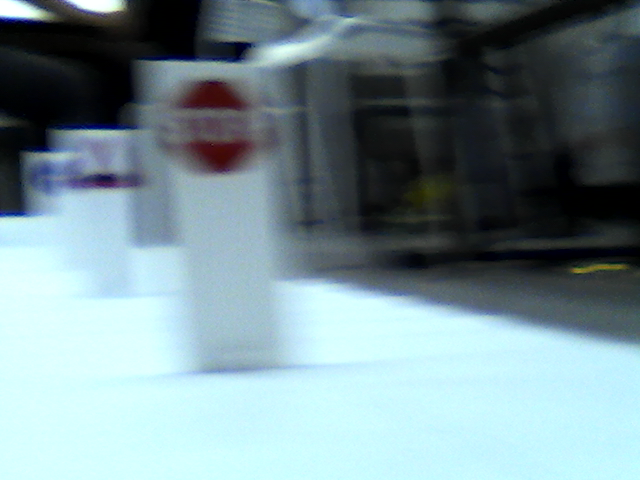Stop: (164, 77, 257, 172)
